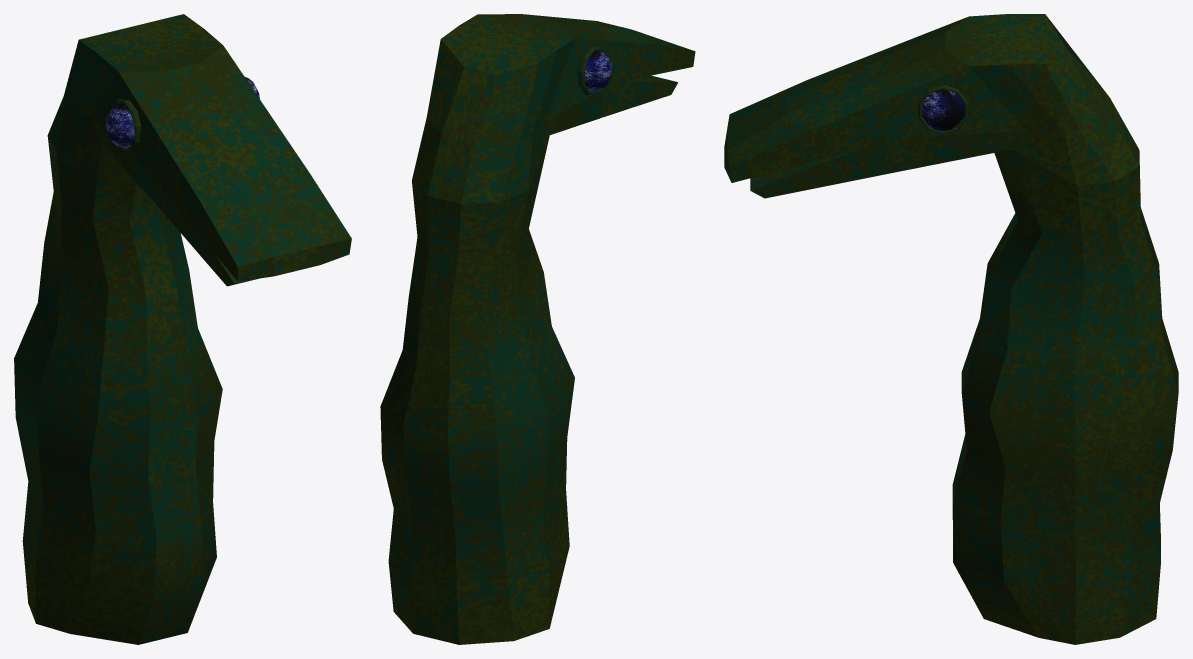
The model's file is Lagarto 1.obj.
3 views of the same model, side by side, from view 1: azimuth 30°, elevation 25°; view 2: azimuth 150°, elevation 25°; view 3: azimuth 270°, elevation 25° (orthographic). The views are drawn at different scales.
Parts seen in each view (by area): view 1: polySurface41; view 2: polySurface41; view 3: polySurface41.
Part boxes in pixels (bbox=[...]): polySurface41: bbox=[14, 14, 351, 644]; polySurface41: bbox=[380, 14, 695, 644]; polySurface41: bbox=[724, 14, 1178, 644].
Size of the model in its own units: 1.4 by 4.94 by 3.58.
Materials: 2 (2 with a texture image).
